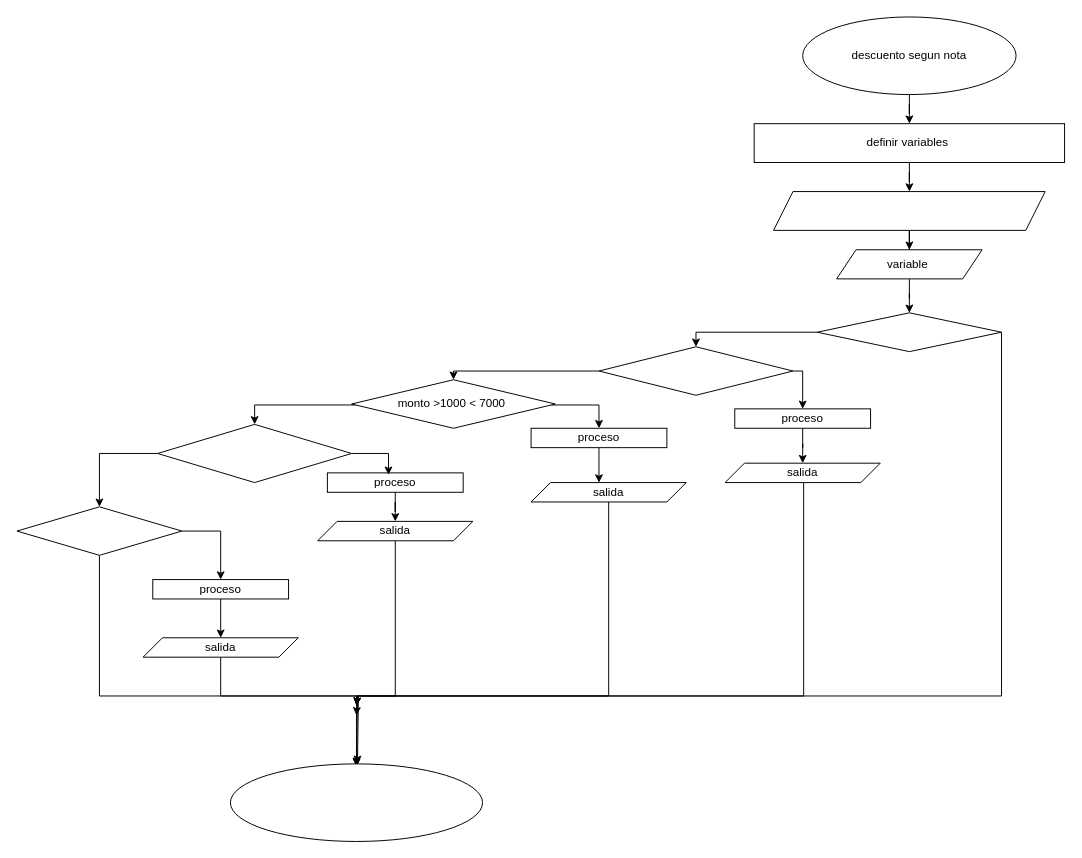
The diagram is 1082 pixels wide and 858 high, and some of its shapes have lost their labels. The centre of each missing label's shape, as x and y in pixels:
fin proceso: the point at 356,802
ingresar datos: the point at 909,210
monto <500: the point at 909,332
monto > 1500: the point at 99,530
monto > 7000 < 1500: the point at 254,453
monto >500<1000: the point at 695,370
